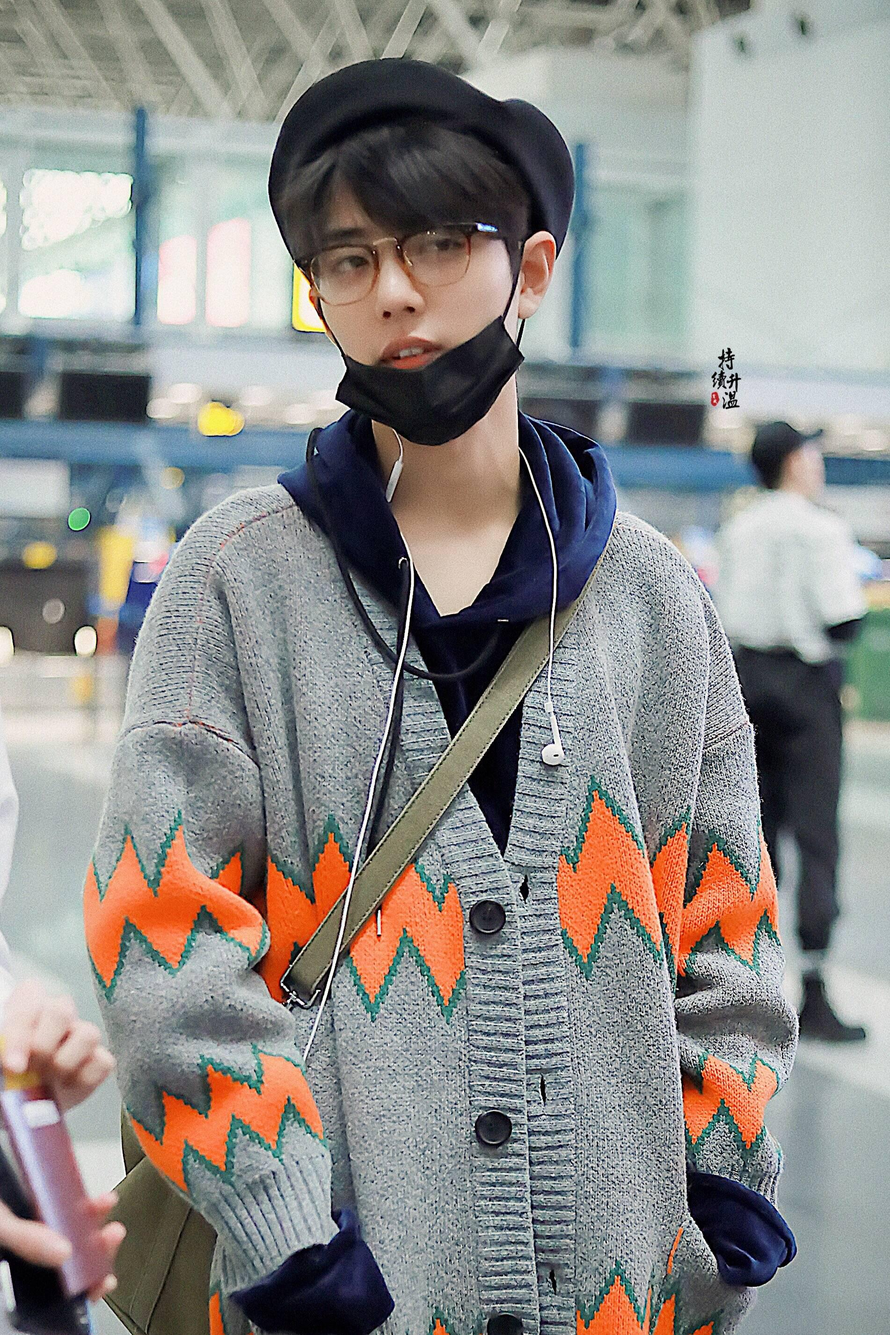WRONG: (313, 203, 524, 438)
